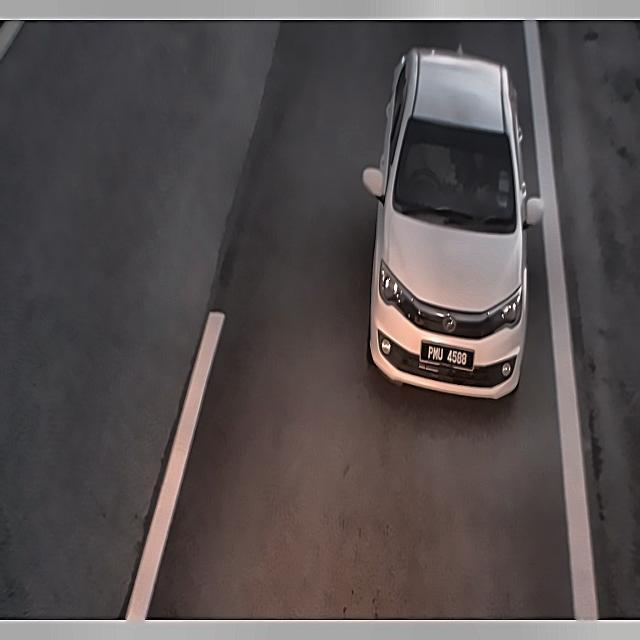car: (420, 328, 477, 380)
